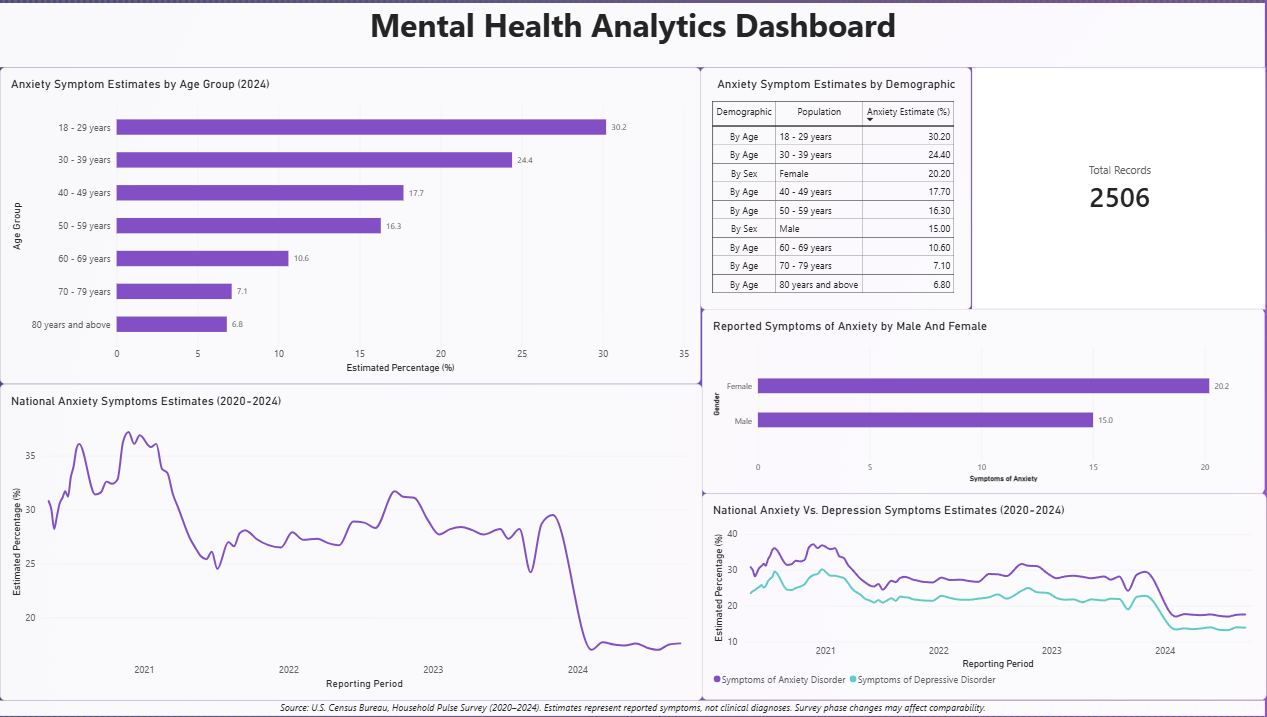

The page's visual inventory and layout, read from the dashboard file:
{"tool":"powerbi","page":{"name":"Page 1","canvas":[1920,1080],"ordinal":0},"visuals":[{"type":"cardVisual","title":"Total Records","fields":{"Data":["CountNonNull(MentalHealthData.Indicator)"]},"box":[1471.8,97.4,446.2,366.7],"z":0},{"type":"clusteredBarChart","title":"Reported Symptoms of Anxiety by Male And Female","fields":{"Category":["MentalHealthData.Subgroup"],"Y":["Avg(MentalHealthData.Value)"]},"box":[1064.1,464.1,853.8,279.5],"z":1000},{"type":"lineChart","title":"National Anxiety Symptoms Estimates (2020-2024)","fields":{"Category":["MentalHealthData.Time Period End Date"],"Y":["Avg(MentalHealthData.Value)"]},"box":[0,576.9,1064.1,479.5],"z":2000},{"type":"lineChart","title":"National Anxiety Vs. Depression  Symptoms Estimates (2020-2024)","fields":{"Category":["MentalHealthData.Time Period End Date"],"Series":["MentalHealthData.Indicator"],"Y":["Avg(MentalHealthData.Value)"]},"box":[1064.1,743.6,856.4,312.8],"z":3000},{"type":"clusteredBarChart","title":"Anxiety Symptom Estimates by Age Group (2024)","fields":{"Category":["MentalHealthData.Subgroup"],"Y":["Avg(MentalHealthData.Value)"]},"box":[0,97.4,1061.5,479.5],"z":4000},{"type":"textbox","box":[0,0,1917.9,97.4],"z":5000},{"type":"tableEx","title":"Anxiety Symptom Estimates by Demographic","fields":{"Values":["MentalHealthData.Group","MentalHealthData.Subgroup","Avg(MentalHealthData.Value)"]},"box":[1061.5,97.4,410.3,366.7],"z":6000},{"type":"textbox","box":[0,1056.4,1917.9,23.1],"z":6001}]}

Visuals, with their boxes in screenshot pixels (x1, y1, x2, y2), scaled from the page's 1920x1080 canvas onto the 1267x717 screenshot:
"Total Records" cardVisual: (left=971, top=65, right=1266, bottom=308)
"Reported Symptoms of Anxiety by Male And Female" clusteredBarChart: (left=702, top=308, right=1266, bottom=494)
"National Anxiety Symptoms Estimates (2020-2024)" lineChart: (left=0, top=383, right=702, bottom=701)
"National Anxiety Vs. Depression  Symptoms Estimates (2020-2024)" lineChart: (left=702, top=494, right=1266, bottom=701)
"Anxiety Symptom Estimates by Age Group (2024)" clusteredBarChart: (left=0, top=65, right=700, bottom=383)
textbox: (left=0, top=0, right=1266, bottom=65)
"Anxiety Symptom Estimates by Demographic" tableEx: (left=700, top=65, right=971, bottom=308)
textbox: (left=0, top=701, right=1266, bottom=716)
